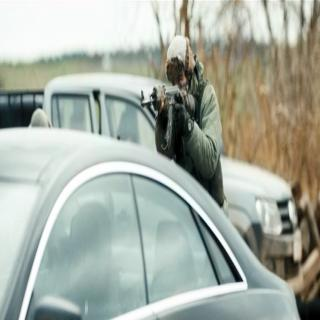gun: (137, 72, 194, 152)
